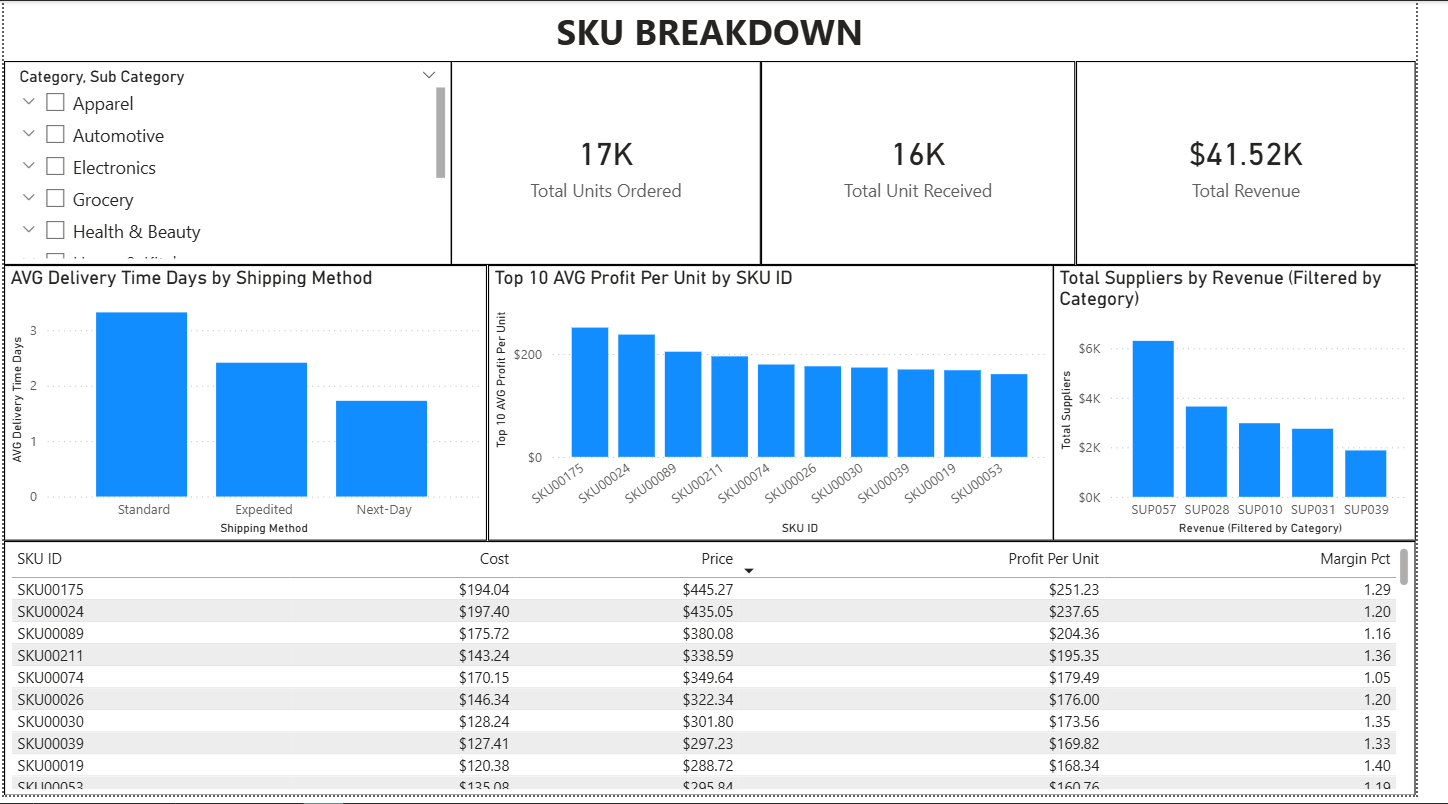

This screenshot's page, from the dashboard's own definition file:
{"tool":"powerbi","page":{"name":"SKU Breakdown","canvas":[1280,720],"ordinal":1},"visuals":[{"type":"slicer","fields":{"Values":["sku_clean.category","sku_clean.sub_category"]},"box":[0,54.5,405.6,184.8],"z":0},{"type":"clusteredColumnChart","fields":{"Y":["Avg(sku_clean.profit_per_unit)"],"Category":["sku_clean.sku_id"]},"box":[438.7,239.3,512.6,250],"z":1000},{"type":"card","fields":{"Values":["Sum(supplier_clean.units_ordered)"]},"box":[405.6,54.5,281.1,184.8],"z":2000},{"type":"card","fields":{"Values":["Sum(supplier_clean.units_received)"]},"box":[686.7,54.5,285,184.8],"z":3000},{"type":"clusteredColumnChart","fields":{"Category":["orders_clean.shipping_method"],"Y":["Avg(orders_clean.delivery_time_days)"]},"box":[0,239.3,437.7,250],"z":4000},{"type":"tableEx","fields":{"Values":["sku_clean.sku_id","sku_clean.cost","sku_clean.price","sku_clean.profit_per_unit","sku_clean.margin_pct"]},"box":[0,489.2,1280,230.5],"z":5000},{"type":"card","fields":{"Values":["sku_clean.Total Revenuee"]},"box":[971.7,54.5,308.3,184.8],"z":6000},{"type":"columnChart","fields":{"Category":["sku_clean.supplier_id"],"Y":["sku_clean.Total Revenuee"]},"box":[951.2,239,328.8,250.2],"z":7000},{"type":"textbox","box":[0,0,1280,54.5],"z":8000}]}

Visuals, with their boxes in screenshot pixels (x1, y1, x2, y2), scaled from the page's 1280x720 canvas onto the 1448x804 screenshot:
slicer - sku_clean.category x sku_clean.sub_category: {"left": 0, "top": 61, "right": 459, "bottom": 267}
clusteredColumnChart - Avg(sku_clean.profit_per_unit) x sku_clean.sku_id: {"left": 496, "top": 267, "right": 1076, "bottom": 546}
card - Sum(supplier_clean.units_ordered): {"left": 459, "top": 61, "right": 777, "bottom": 267}
card - Sum(supplier_clean.units_received): {"left": 777, "top": 61, "right": 1099, "bottom": 267}
clusteredColumnChart - orders_clean.shipping_method x Avg(orders_clean.delivery_time_days): {"left": 0, "top": 267, "right": 495, "bottom": 546}
tableEx - sku_clean.sku_id x sku_clean.cost: {"left": 0, "top": 546, "right": 1447, "bottom": 803}
card - sku_clean.Total Revenuee: {"left": 1099, "top": 61, "right": 1447, "bottom": 267}
columnChart - sku_clean.supplier_id x sku_clean.Total Revenuee: {"left": 1076, "top": 267, "right": 1447, "bottom": 546}
textbox: {"left": 0, "top": 0, "right": 1447, "bottom": 61}
